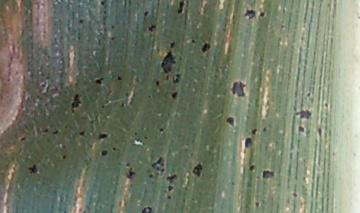tarspot: (160, 49, 177, 73), (229, 80, 247, 99), (69, 92, 82, 111), (293, 109, 312, 120), (244, 8, 257, 21), (192, 163, 203, 178), (225, 116, 237, 129), (261, 169, 275, 180), (27, 163, 38, 175), (165, 173, 178, 183), (176, 1, 185, 15), (200, 42, 211, 53), (243, 137, 253, 149), (96, 132, 108, 141), (296, 124, 306, 134), (115, 71, 123, 83), (128, 166, 136, 178), (94, 77, 104, 86), (140, 205, 151, 213), (170, 90, 178, 101), (147, 24, 156, 33), (253, 200, 261, 210), (131, 136, 142, 143), (142, 10, 150, 19), (248, 164, 256, 172), (258, 10, 265, 19), (251, 127, 258, 136), (169, 40, 176, 49), (317, 125, 322, 137), (167, 183, 173, 193), (323, 101, 330, 109), (291, 191, 299, 198), (51, 128, 59, 135), (100, 149, 108, 156), (77, 130, 85, 137), (77, 17, 84, 25), (172, 78, 180, 85), (19, 136, 28, 142), (156, 156, 162, 165), (305, 91, 312, 98), (61, 153, 68, 160), (109, 35, 116, 42), (174, 72, 181, 79), (150, 161, 157, 168), (147, 172, 154, 179), (154, 79, 160, 87), (164, 74, 170, 82), (190, 38, 196, 45), (158, 126, 164, 133), (261, 126, 267, 133), (165, 194, 171, 201), (111, 145, 117, 152), (99, 104, 106, 110), (146, 93, 152, 100), (41, 128, 49, 133), (99, 1, 107, 6), (178, 54, 183, 61), (120, 102, 125, 108), (143, 135, 149, 140), (110, 24, 115, 29), (160, 167, 164, 173)
